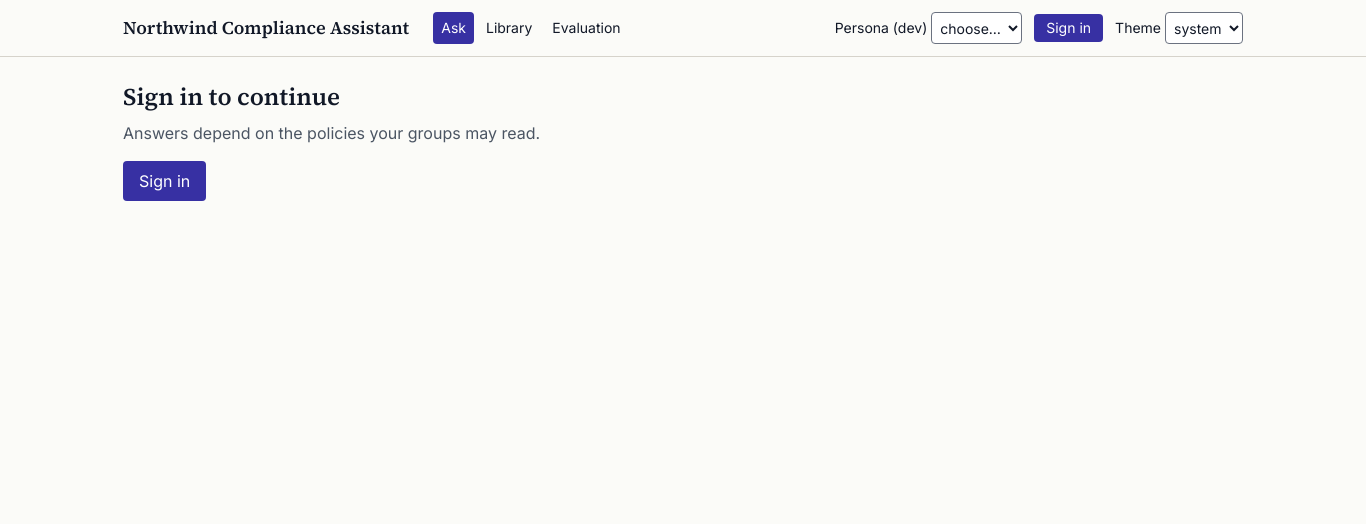
switching persona signs in and hides admin navigation from other roles
# the shell is rebuilt for each identity, so look the navigation up again after every switch
Select "legal" in the dropdown labelled "Persona (dev)" at (977,28), box [931,12,1022,44]
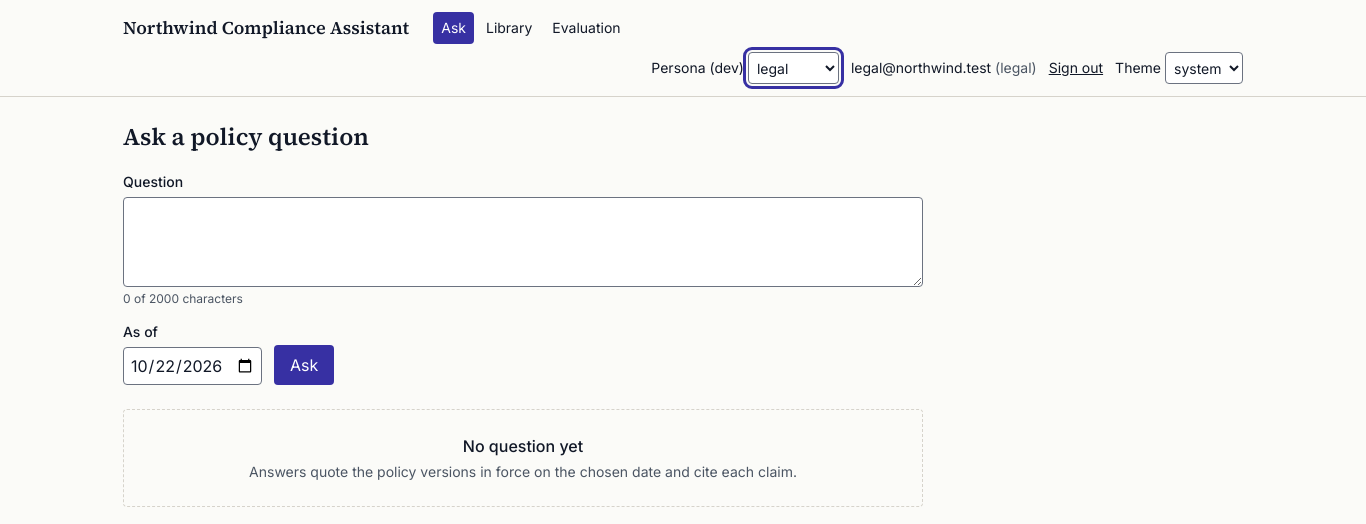
Expected: the link "ingestion jobs" is not shown
Expected: the text "legal@northwind.test (legal)" is shown, [851,58,1037,78]
Select "admin" in the dropdown labelled "Persona (dev)" at (793,68), box [748,52,839,84]
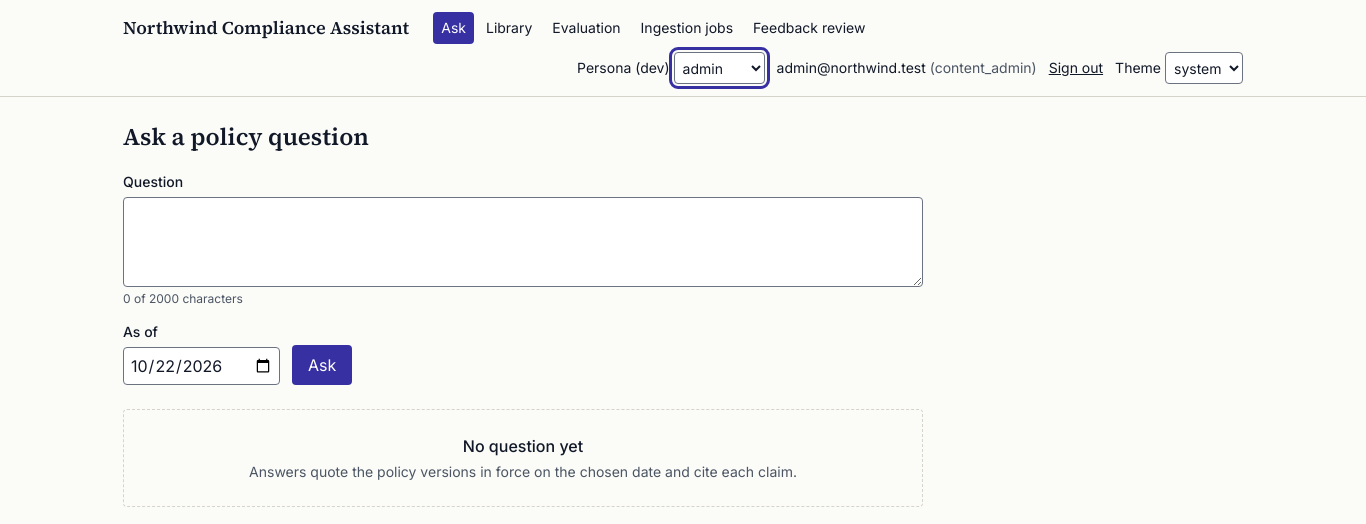
Expected: the link "Ingestion jobs" is shown, [641,19,733,36]
Expected: the link "Feedback review" is shown, [753,19,866,36]
